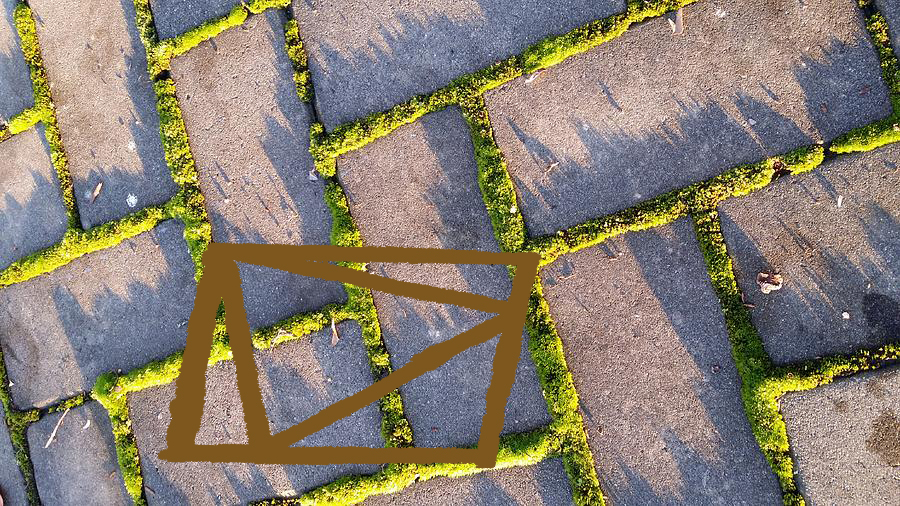marker: (154, 234, 544, 476)
